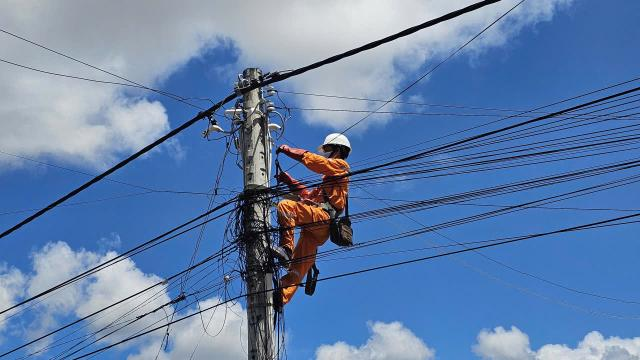gloves: (275, 168, 308, 197), (277, 142, 312, 163)
harness: (302, 196, 348, 220)
helmet: (317, 129, 363, 156)
shoes: (264, 236, 297, 274)
